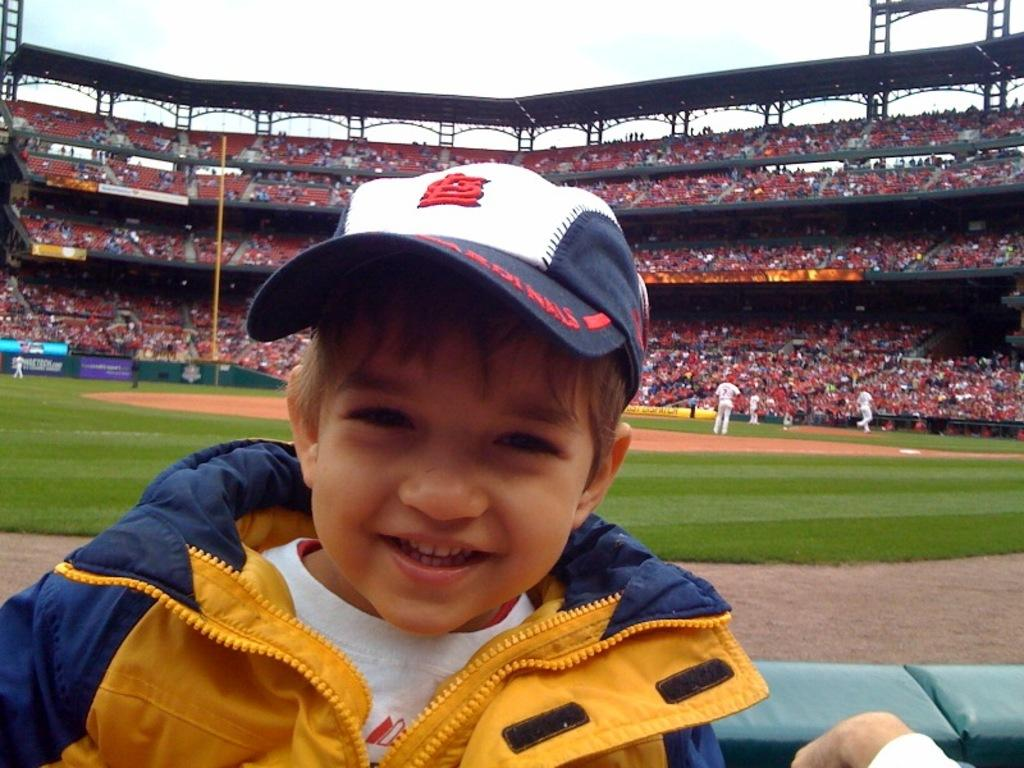Hat: (240, 161, 652, 416)
